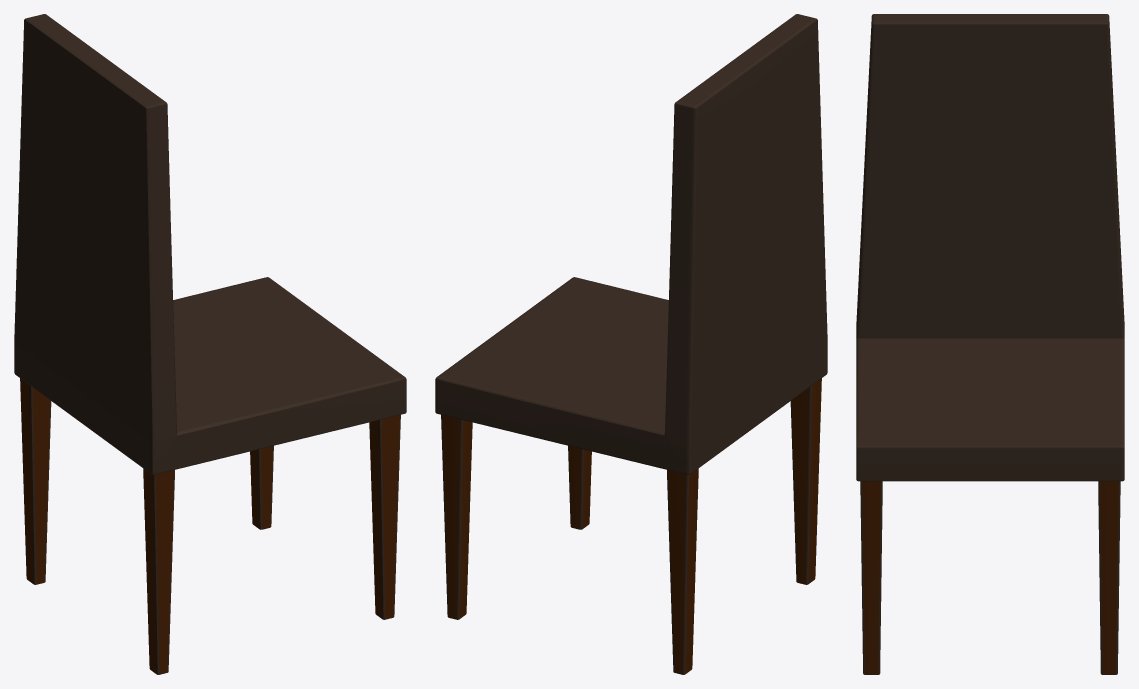
Rendered from Chair.fbx.
The picture shows the model from 3 angles, left to right: view 1: azimuth 30°, elevation 25°; view 2: azimuth 150°, elevation 25°; view 3: azimuth 270°, elevation 25°; orthographic projection. The views are drawn at different scales.
Visible parts, largest first — view 1: pCube19; view 2: pCube19; view 3: pCube19.
Boxes of the visible parts, left/top/right/bottom form: pCube19: left=14, top=14, right=406, bottom=674; pCube19: left=435, top=14, right=827, bottom=674; pCube19: left=856, top=14, right=1124, bottom=674.
Size of the model in its own units: 53.55 by 114 by 50.59.
Materials: 1 (1 with a texture image).
